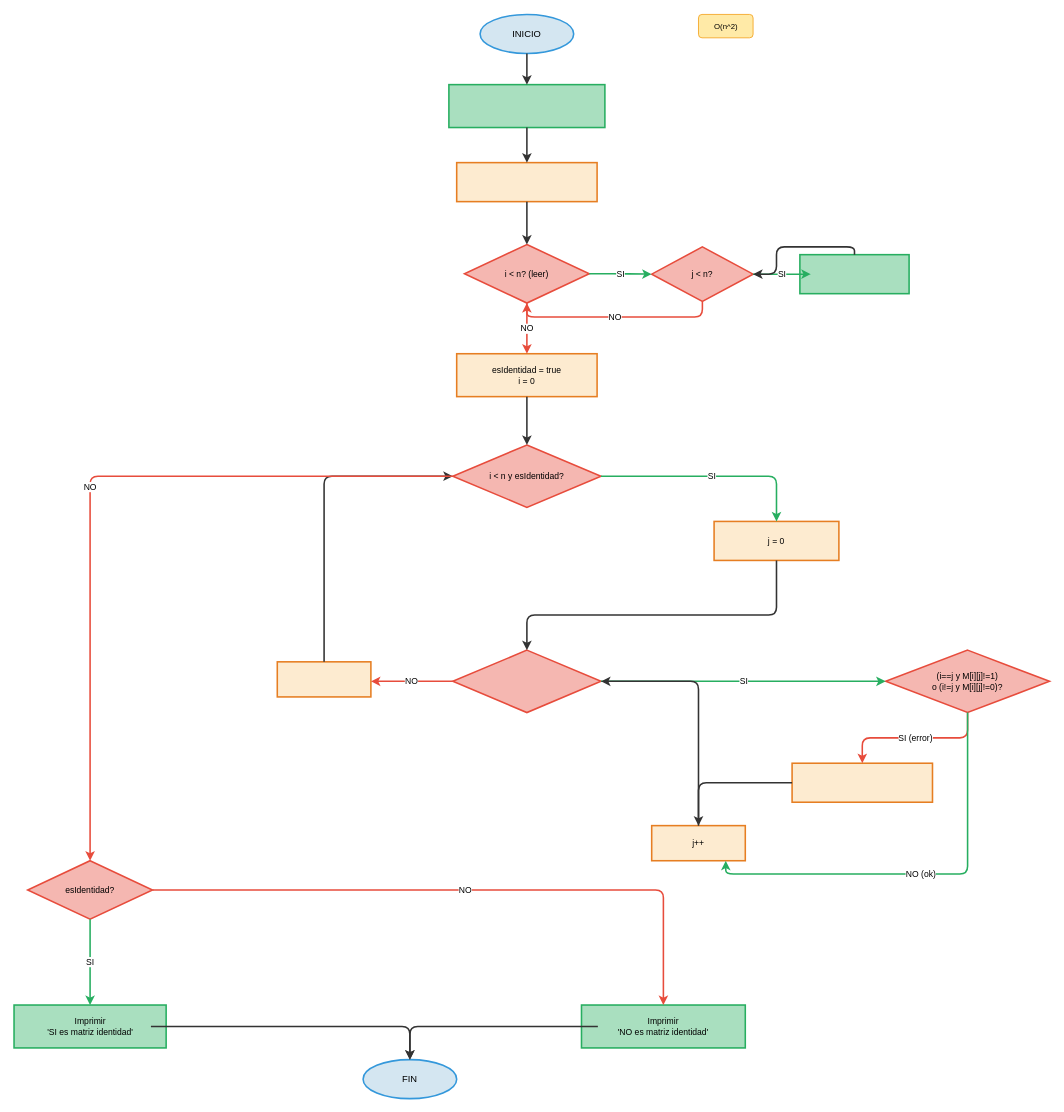
This 1064x1112 diagram has some shape labels left out. The shapes that lost their labels are listed below. From the top down, each one's box as (x1, y1, x2, y2) in pixels, then its label:
(448, 83, 605, 128): Leer n
(456, 161, 597, 202): matriz[n][n]
(799, 254, 909, 294): Leer matriz[i][j]
(276, 661, 371, 697): i++
(452, 649, 601, 713): j < n y esIdentidad?
(791, 762, 933, 803): esIdentidad = false
